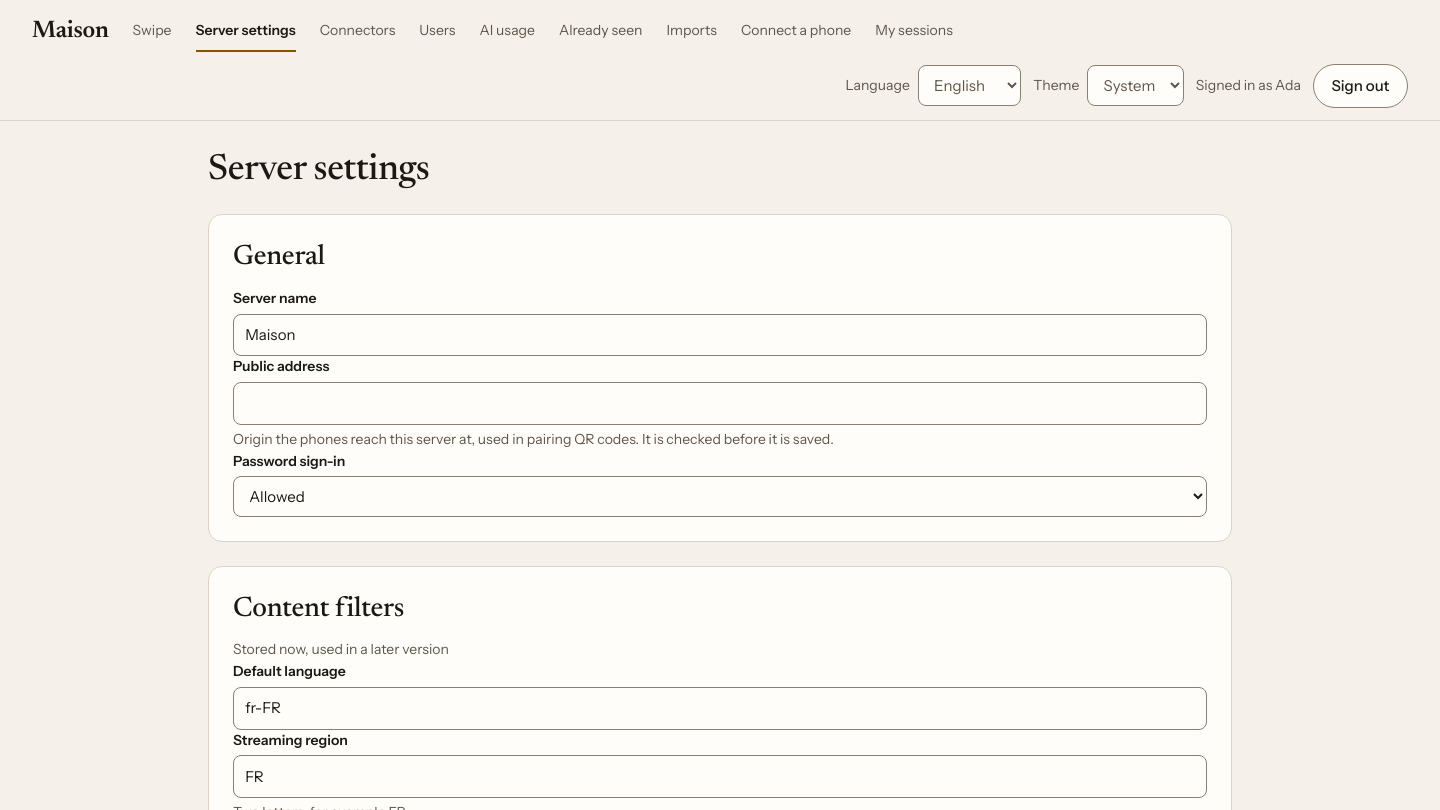
Test: the server settings › explains a refused public address with the server's coarse reason
This screenshot has width=1440, height=810.
In the field labelled "Public address": (720, 404) top-left (233, 382), bottom-right (1207, 425), type "https://wrong.example"
(page scrolled)
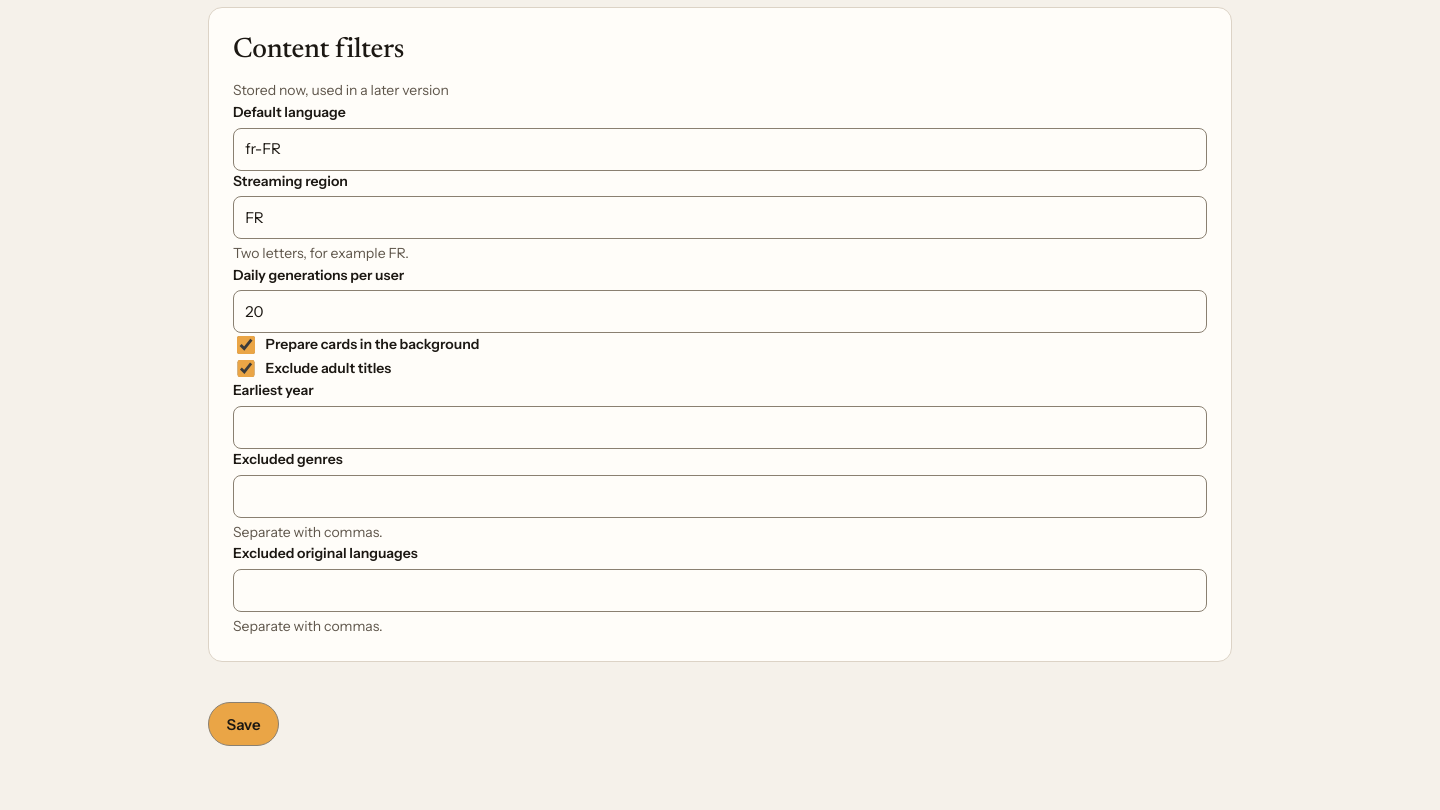
Click the button "Save": (244, 724) top-left (208, 702), bottom-right (279, 746)
(page scrolled)
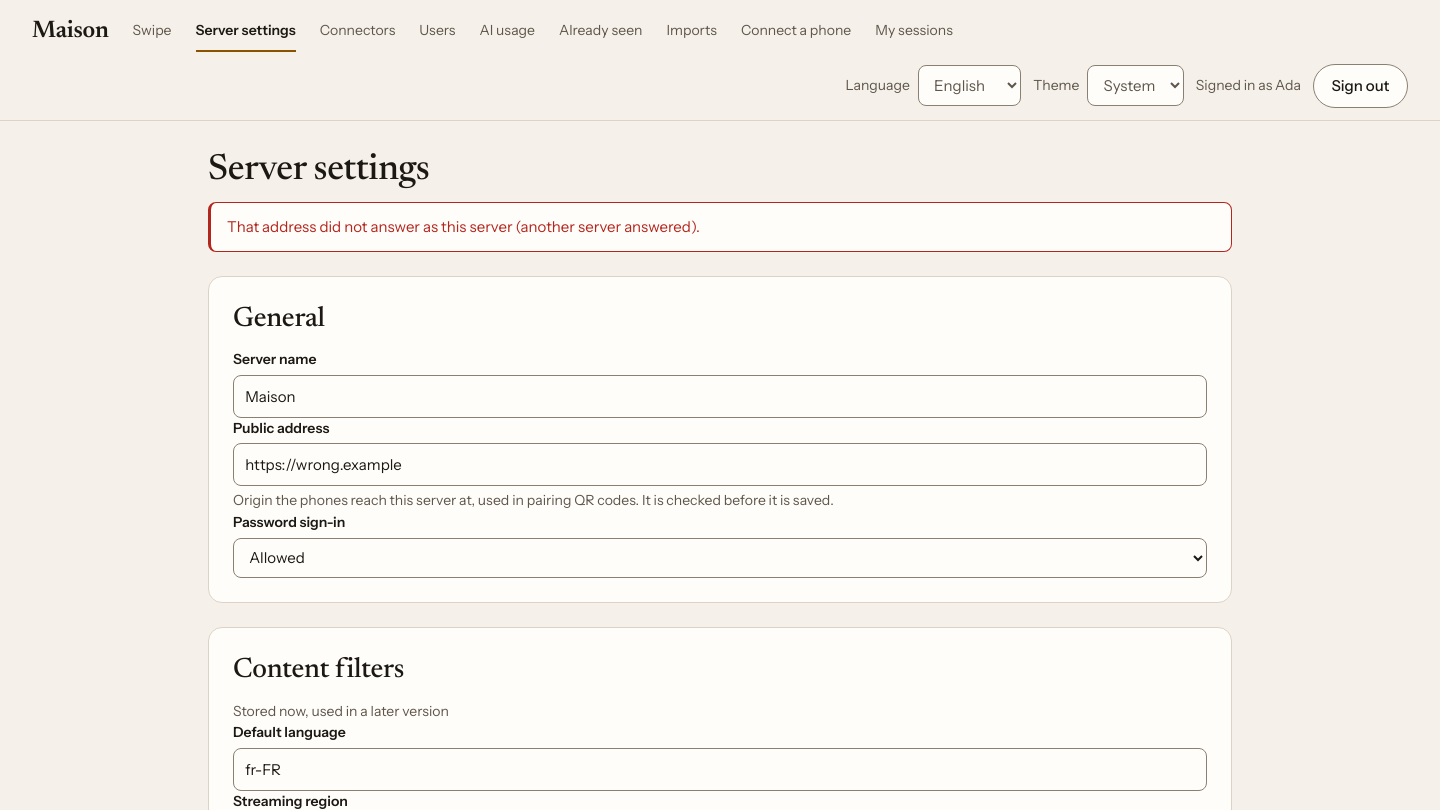
Now the message shows "another server answered", box top-left (227, 218), bottom-right (700, 236)
